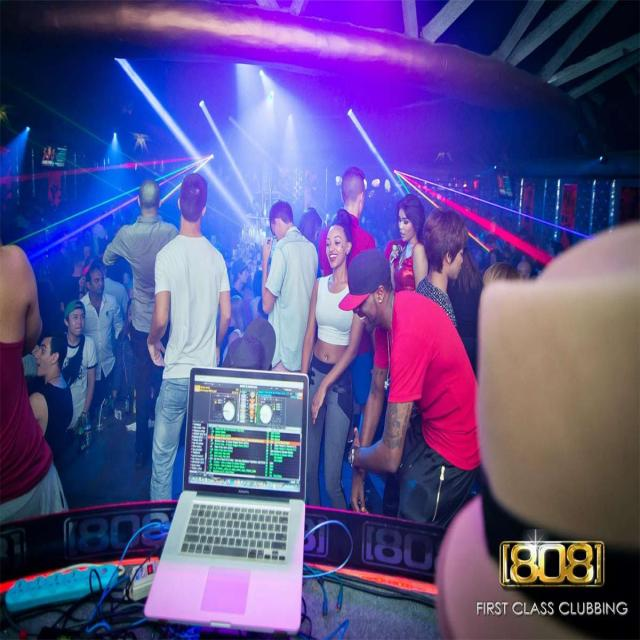body: (441, 215, 640, 640), (341, 244, 484, 531), (147, 171, 233, 523), (0, 239, 76, 556), (100, 175, 181, 465), (298, 206, 355, 513), (318, 166, 378, 417), (260, 200, 319, 374), (77, 264, 126, 422), (4, 182, 90, 261), (416, 206, 469, 334), (28, 329, 75, 464), (61, 300, 99, 445), (388, 191, 430, 295), (220, 313, 277, 372), (209, 223, 266, 279), (111, 296, 135, 416), (89, 257, 129, 323), (297, 203, 324, 279), (222, 293, 246, 365), (104, 187, 137, 230), (91, 208, 109, 260), (230, 259, 251, 302)
